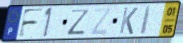1: (42, 6, 54, 39)
F: (17, 8, 46, 39)
I: (139, 5, 153, 36)
K: (118, 6, 139, 36)
Z: (89, 7, 114, 36), (66, 9, 91, 37)
